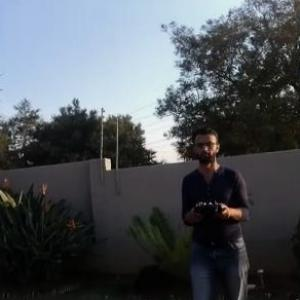follow: (177, 119, 256, 299)
